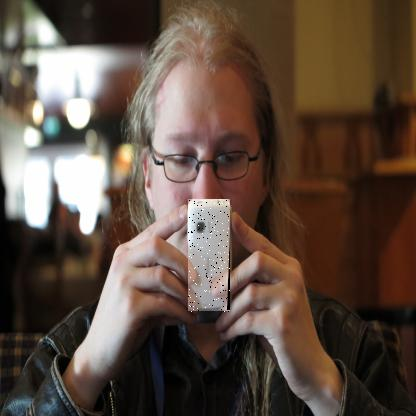Camera: (189, 201, 232, 315)
